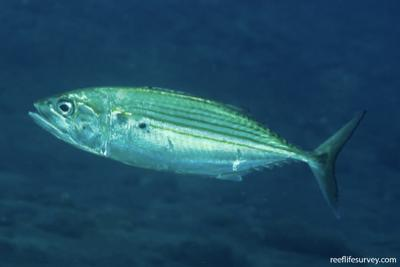Scombridae -Tunas-: (24, 79, 372, 226)
